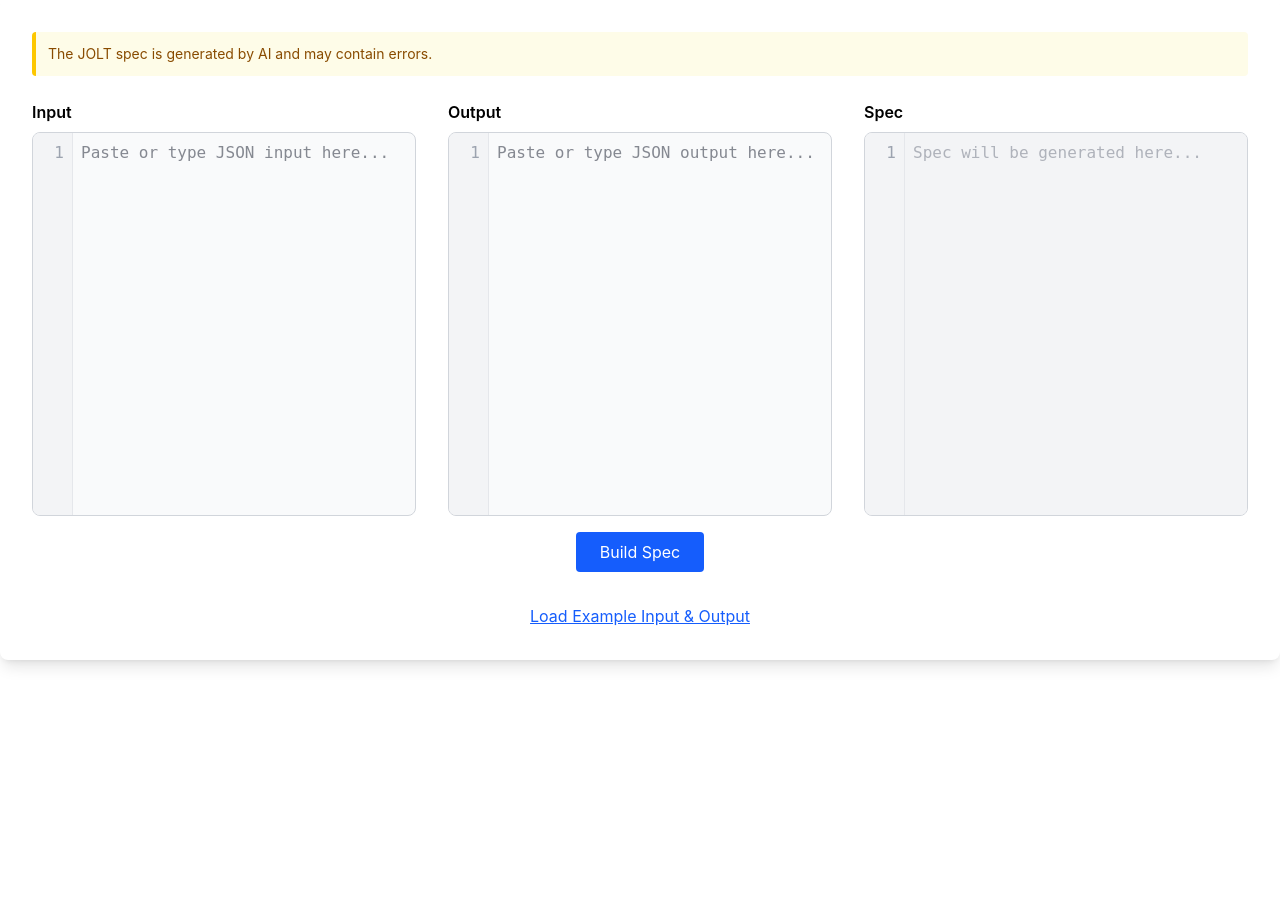
Test: BuildPage › shows an error on network failure
What coordinates should you click on to do the following:
click the button "Build Spec"
I would click on:
 (640, 552)
Its box is [576,532,704,572].
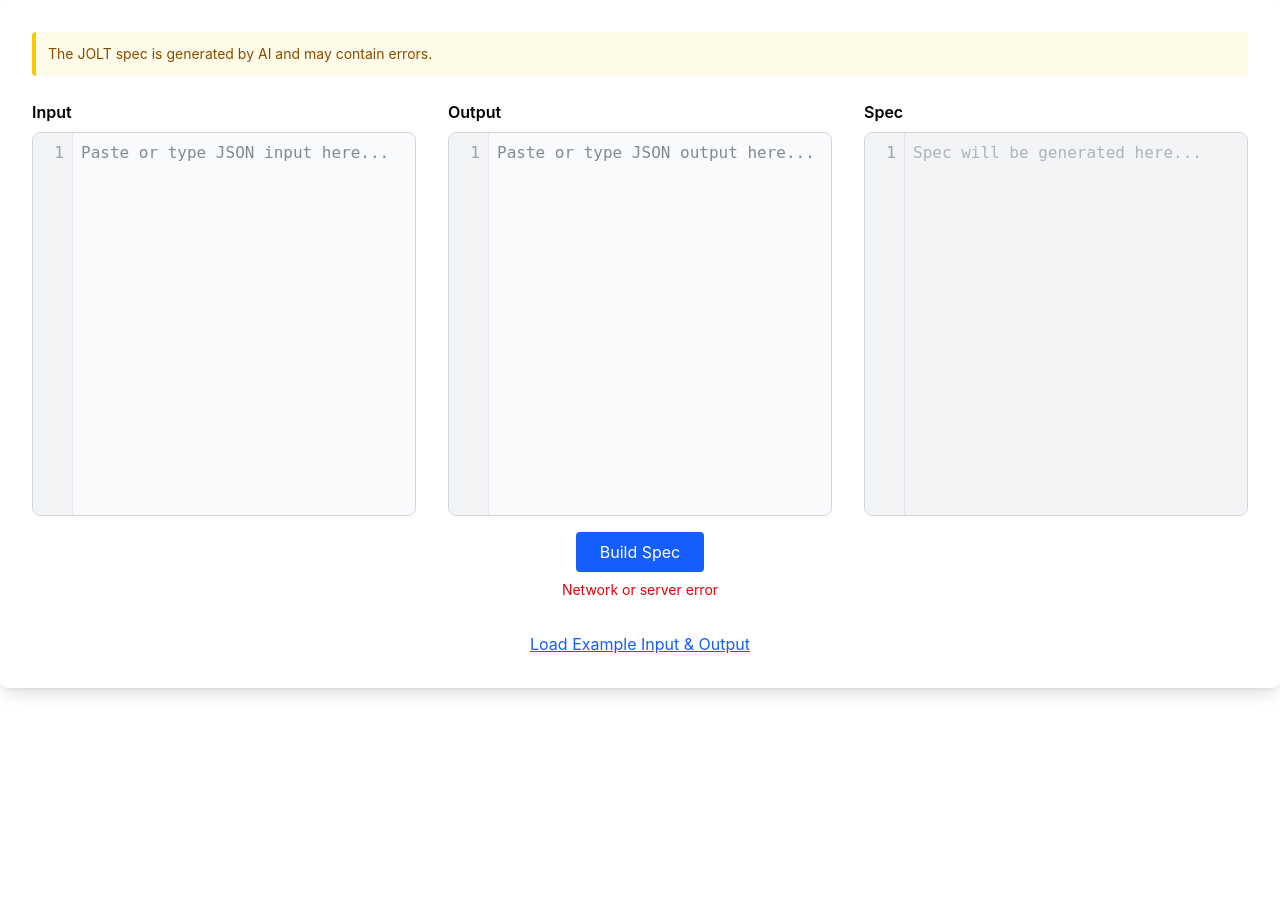
Check: the text "Network or server error" is shown, box [562,580,718,600]
